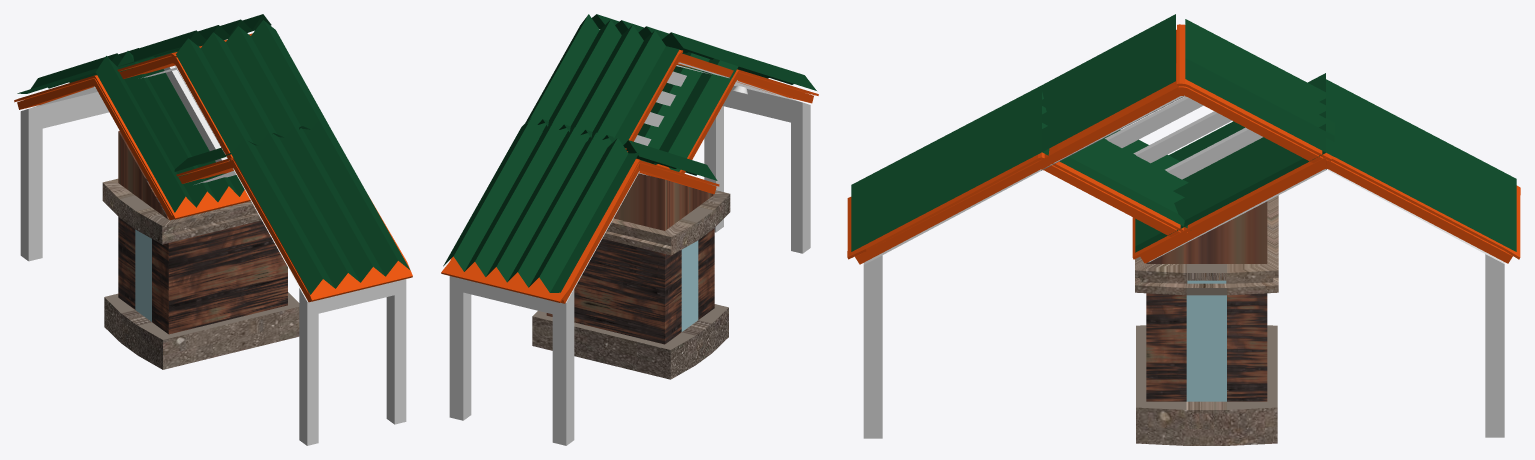
File: Gate1.glb
3 renders of one model, left to right at view 1: azimuth 30°, elevation 25°; view 2: azimuth 150°, elevation 25°; view 3: azimuth 270°, elevation 25°, orthographic. The views are drawn at different scales.
Parts seen in each view (by area): view 1: Plane.003, Cube.013, Plane, Cube.007, Cube.003, Cube.006, Plane.001, Cube.001, Cube.009, Cube.002, Cube.008, Cube.005 (+1 smaller); view 2: Plane.001, Cube.013, Cube.003, Cube.007, Plane.002, Cube.002, Plane.003, Cube.006, Plane, Cube.001, Cube.005, Cube.008; view 3: Cube.013, Plane.001, Plane.003, Plane, Cube.006, Plane.002, Cube.007, Cube.003, Cube.002, Cube.008, Cube.001, Cube.005 (+3 smaller).
Part boxes in pixels (left/top/right/bottom): Plane.003: left=176, top=20, right=410, bottom=294; Cube.013: left=102, top=131, right=299, bottom=369; Plane: left=95, top=45, right=244, bottom=212; Cube.007: left=141, top=65, right=406, bottom=445; Cube.003: left=20, top=86, right=108, bottom=261; Cube.006: left=175, top=58, right=412, bottom=302; Plane.001: left=17, top=14, right=271, bottom=93; Cube.001: left=94, top=75, right=250, bottom=220; Cube.009: left=164, top=65, right=227, bottom=162; Cube.002: left=14, top=75, right=96, bottom=109; Cube.008: left=117, top=33, right=252, bottom=78; Cube.005: left=176, top=157, right=233, bottom=183; Plane.001: left=443, top=14, right=679, bottom=292; Cube.013: left=532, top=173, right=730, bottom=379; Cube.003: left=449, top=171, right=639, bottom=445; Cube.007: left=676, top=62, right=810, bottom=253; Plane.002: left=637, top=52, right=738, bottom=171; Cube.002: left=441, top=159, right=639, bottom=303; Plane.003: left=592, top=14, right=816, bottom=90; Cube.006: left=677, top=53, right=818, bottom=103; Plane: left=537, top=119, right=717, bottom=180; Cube.001: left=635, top=159, right=719, bottom=193; Cube.005: left=636, top=70, right=738, bottom=173; Cube.008: left=625, top=50, right=682, bottom=151; Cube.013: left=1135, top=195, right=1278, bottom=445; Plane.001: left=1185, top=19, right=1516, bottom=251; Plane.003: left=851, top=14, right=1175, bottom=251; Plane: left=1135, top=73, right=1325, bottom=252; Cube.006: left=847, top=29, right=1182, bottom=264; Plane.002: left=1042, top=92, right=1188, bottom=228; Cube.007: left=863, top=95, right=1184, bottom=438; Cube.003: left=1328, top=169, right=1504, bottom=437; Cube.002: left=1326, top=154, right=1520, bottom=263; Cube.008: left=1176, top=24, right=1331, bottom=168; Cube.001: left=1132, top=157, right=1326, bottom=263; Cube.005: left=1041, top=152, right=1187, bottom=241.
Bounding box in the file's own units: 21.76 × 43.04 × 69.94.
Materials: 6 (2 with a texture image).
